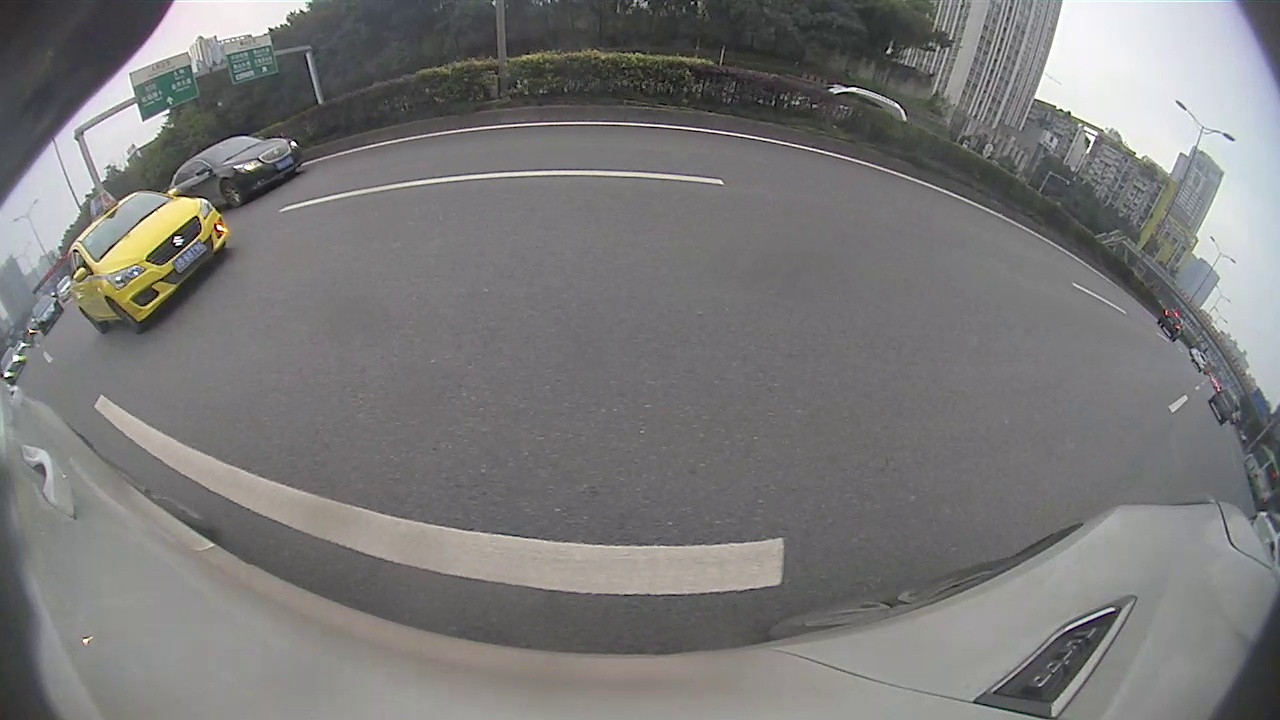car: (65, 187, 230, 335), (164, 133, 308, 213), (1207, 387, 1243, 427), (1156, 306, 1188, 344)
front: (108, 301, 142, 334), (222, 179, 245, 209)
